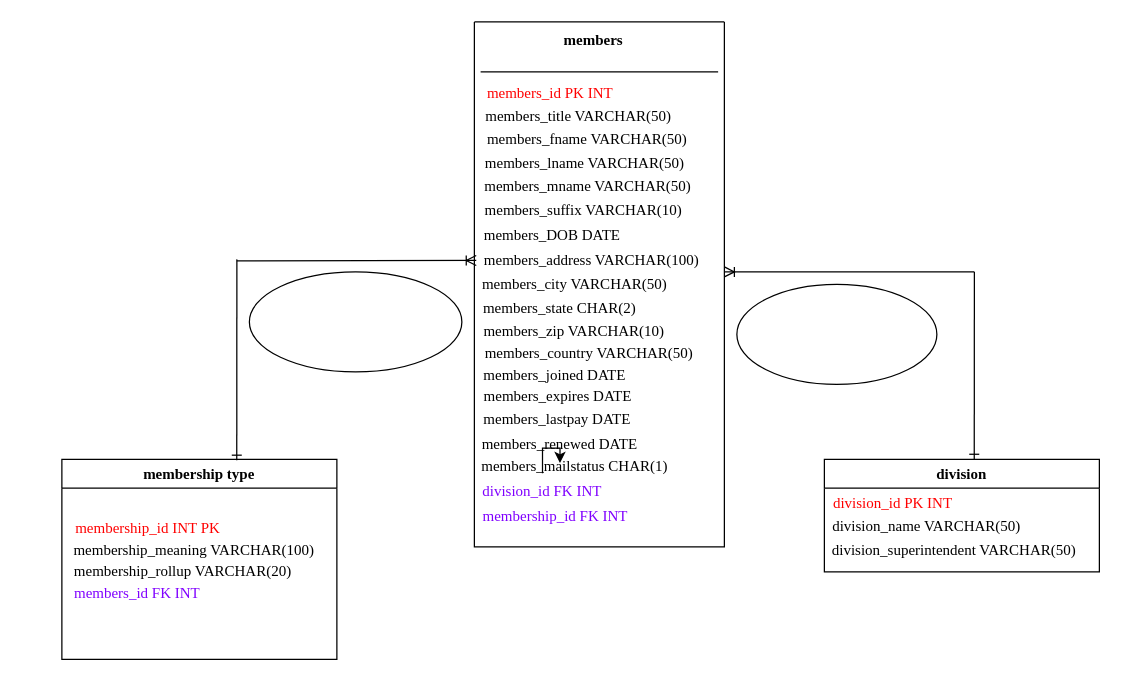
Image size: 1121x681. Some labels were removed from this diagram. The shapes that lost their labels are listed below. From the top down, each one's centre as x and y in pixels, then its label:
pixel 355 321: many to one many members can have one membership type
pixel 836 333: many to one many members can have only one division
